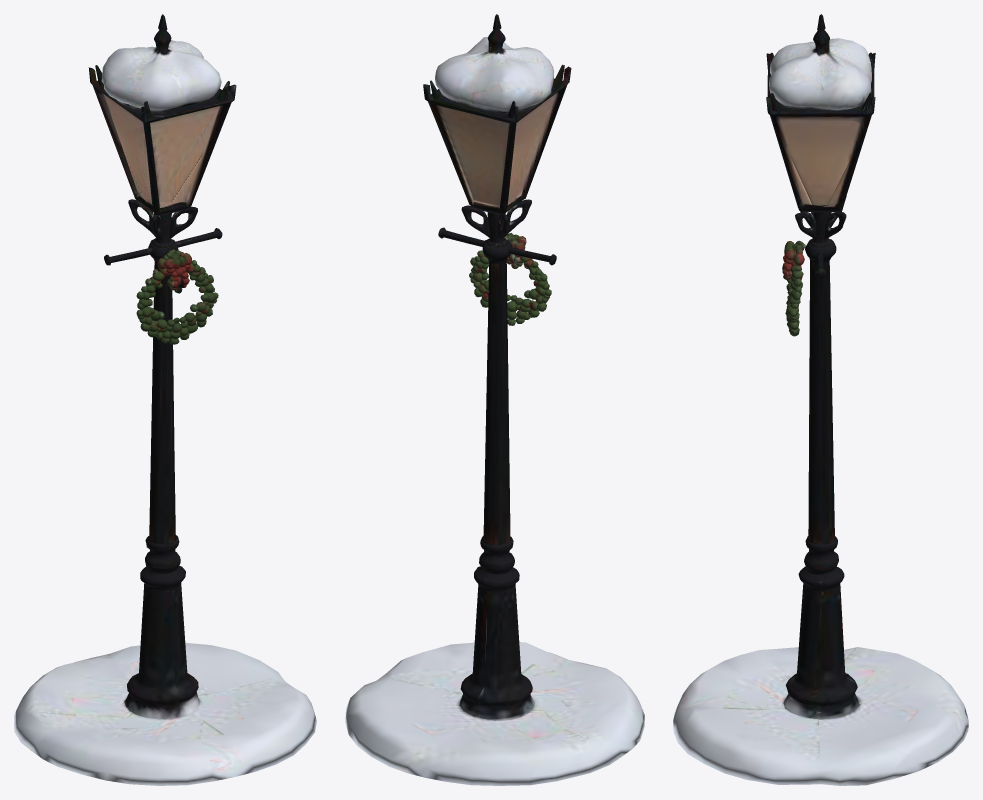
The model's file is p-lamp.glb.
The picture shows the model from 3 angles, left to right: view 1: azimuth 30°, elevation 25°; view 2: azimuth 150°, elevation 25°; view 3: azimuth 270°, elevation 25°; orthographic projection.
Parts seen in each view (by area): view 1: Mesh_0; view 2: Mesh_0; view 3: Mesh_0.
Part boxes in pixels (<box>): Mesh_0: <box>14,14,316,785</box>; Mesh_0: <box>345,14,644,785</box>; Mesh_0: <box>673,14,968,785</box>.
Size of the model in its own units: 0.3803 by 1 by 0.3781.
1 material, 1 textured.
